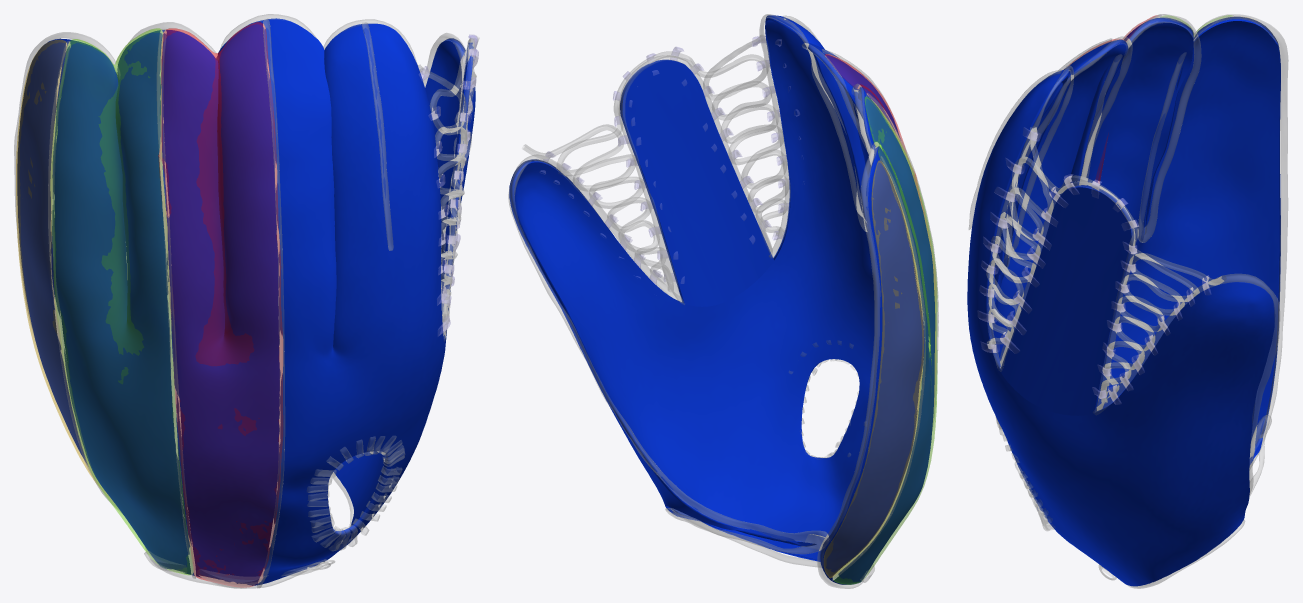
3 renders of one model, left to right at view 1: azimuth 30°, elevation 25°; view 2: azimuth 150°, elevation 25°; view 3: azimuth 270°, elevation 25°, orthographic. The views are drawn at different scales.
Parts seen in each view (by area): view 1: index_thumb_web, middle_part, ring_part, pinky_part, welting, laces, binding, spagetti, belt; view 2: index_thumb_web, binding, pinky_part, spagetti, ring_part, welting, laces, middle_part; view 3: index_thumb_web, binding, spagetti, laces, welting.
Boxes of the visible parts, box(x1,y1,x2,y2) form: index_thumb_web: box(17, 18, 475, 585); middle_part: box(158, 22, 282, 587); ring_part: box(50, 28, 193, 574); pinky_part: box(16, 40, 98, 485); welting: box(48, 19, 393, 588); laces: box(307, 34, 478, 550); binding: box(14, 14, 474, 588); spagetti: box(418, 36, 479, 335); belt: box(144, 551, 326, 587); index_thumb_web: box(509, 15, 935, 584); binding: box(508, 14, 880, 588); pinky_part: box(824, 160, 923, 577); spagetti: box(522, 35, 788, 291); ring_part: box(833, 96, 937, 584); welting: box(783, 15, 938, 580); laces: box(540, 36, 865, 459); middle_part: box(825, 54, 934, 289); index_thumb_web: box(967, 16, 1280, 586); binding: box(987, 14, 1288, 588); spagetti: box(986, 127, 1226, 403); laces: box(977, 127, 1210, 530); welting: box(968, 15, 1233, 229).
Bounding box in the file's own units: 0.3706 × 0.4622 × 0.2559.
